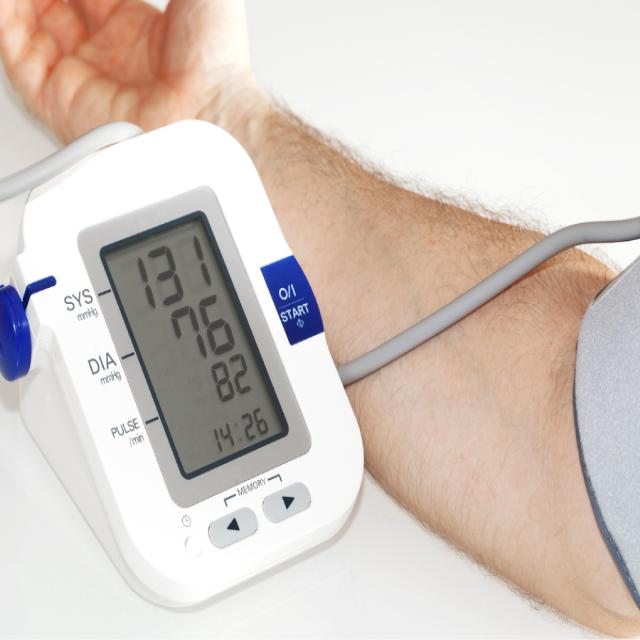dia: (165, 293, 238, 370)
pul: (204, 348, 258, 407)
ssd: (99, 214, 287, 475)
sys: (124, 227, 222, 315)
